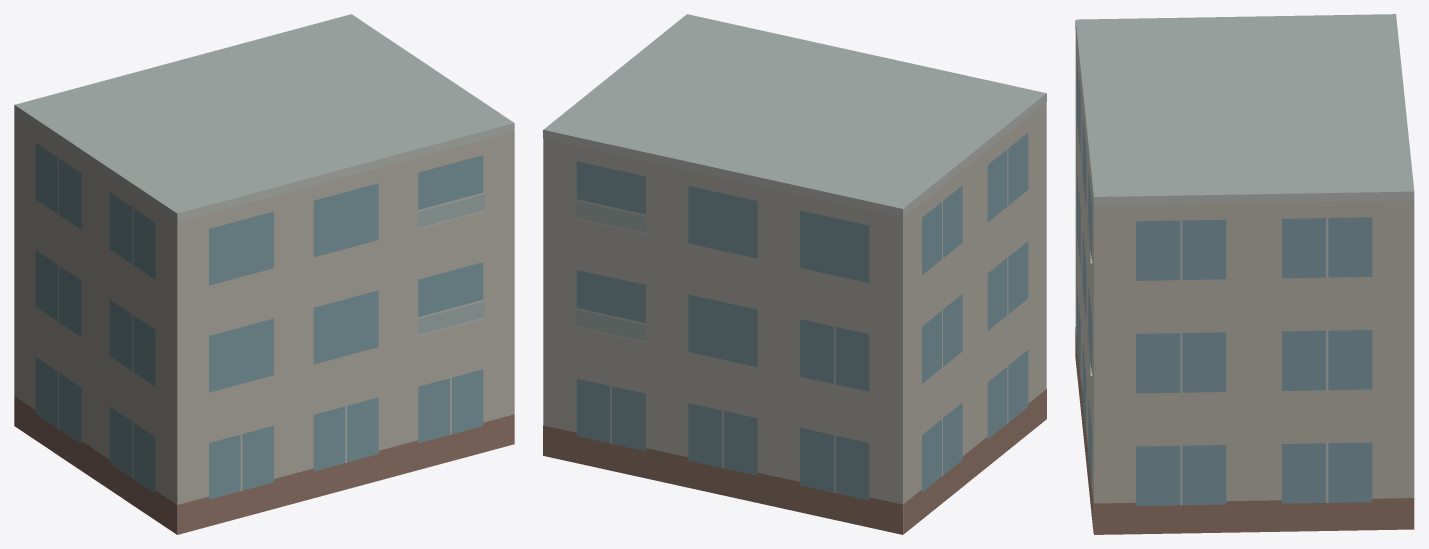
Rendered from survey-upis-32717496.glb.
3 views of the same model, side by side, from view 1: azimuth 30°, elevation 25°; view 2: azimuth 150°, elevation 25°; view 3: azimuth 270°, elevation 25° (orthographic). The views are drawn at different scales.
Visible parts, largest first — view 1: survey-upis-32717496.tmp; view 2: survey-upis-32717496.tmp; view 3: survey-upis-32717496.tmp.
Part boxes in pixels (x1=…): survey-upis-32717496.tmp: x1=14, y1=14, x2=514, y2=534; survey-upis-32717496.tmp: x1=543, y1=14, x2=1046, y2=534; survey-upis-32717496.tmp: x1=1075, y1=14, x2=1414, y2=534.
Size of the model in its own units: 10.64 by 9.15 by 8.33.
